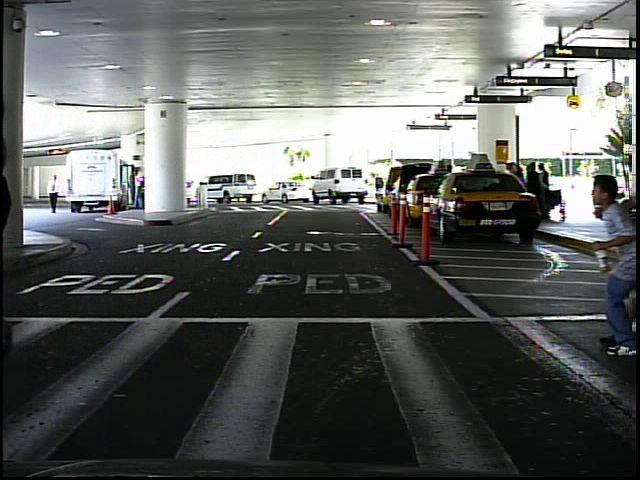person: (596, 166, 640, 369), (588, 172, 607, 218), (48, 173, 64, 217), (372, 171, 386, 200)
